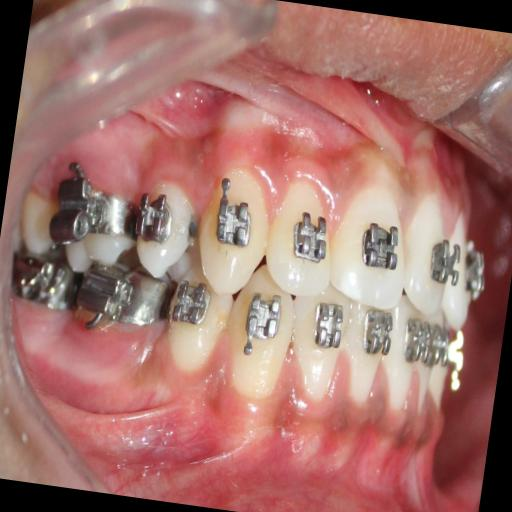correct_brace: (129, 174, 196, 286), (353, 213, 407, 290), (208, 192, 256, 253), (285, 204, 332, 266)
incorrect_brace: (260, 178, 338, 298), (136, 195, 174, 249)
